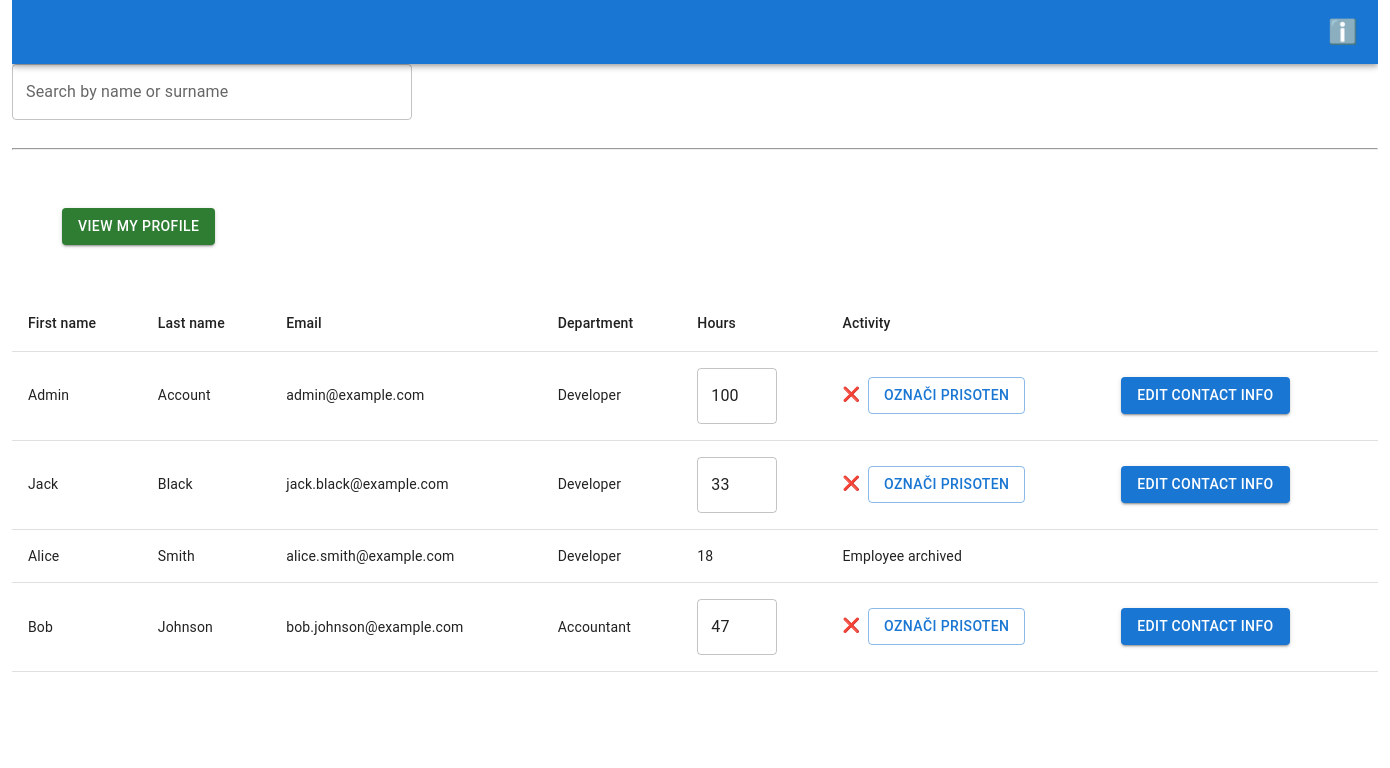
it: EmployeeListSearch › Filtriranje in prikaz zaposlenega glede na iskanje po imenu:
// Vnesemo iskalni niz "John"
Type "John" into the field labelled "Search by name or surname" at (212, 92), box [12,64,412,120]
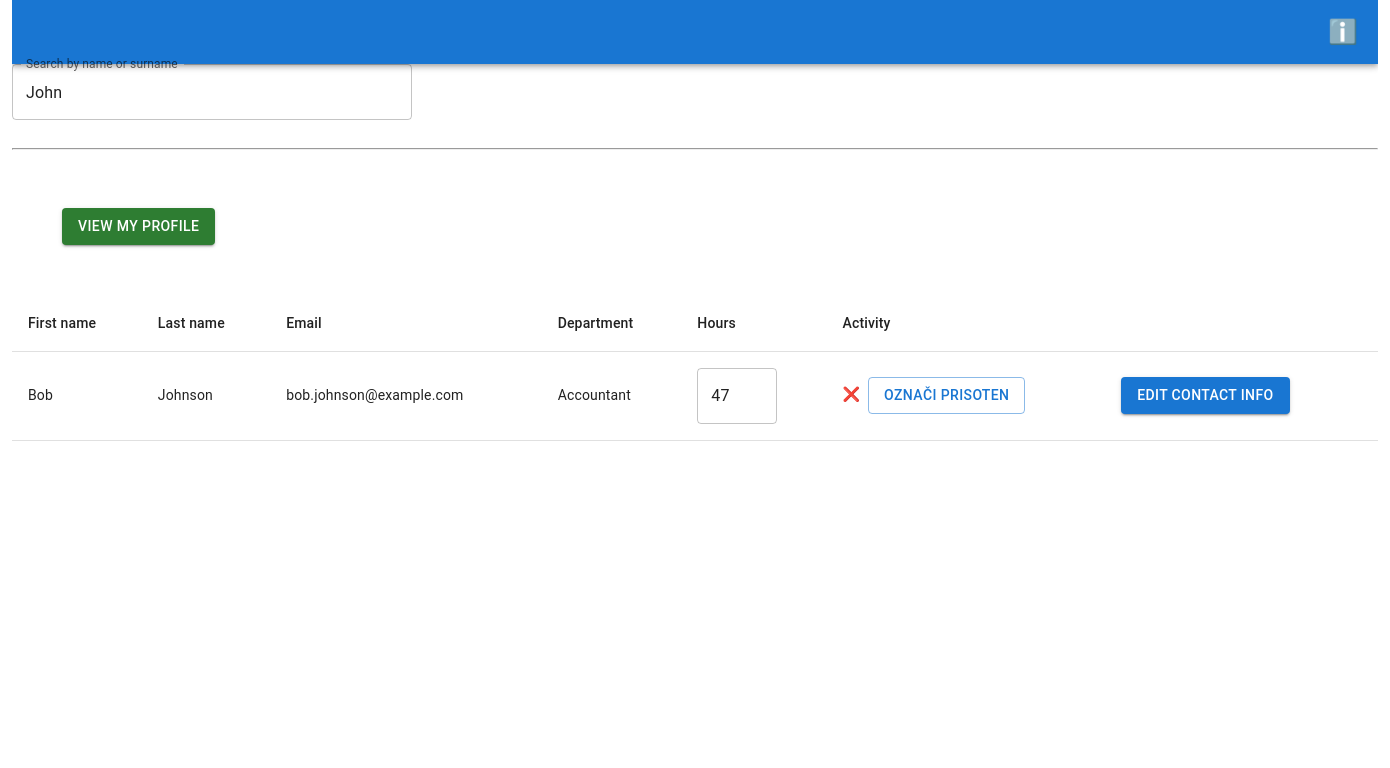
Check: the text "Johnson" is shown, box [142,351,270,440]
Check: the text "Smith" is gone
